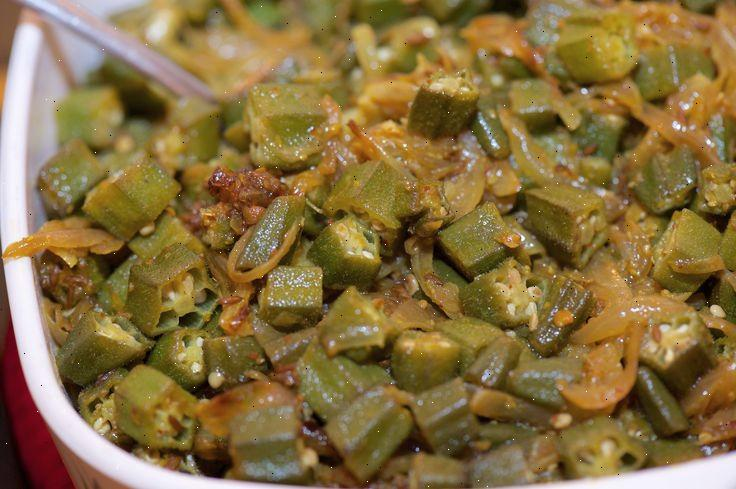bhindi: (41, 62, 736, 473)
